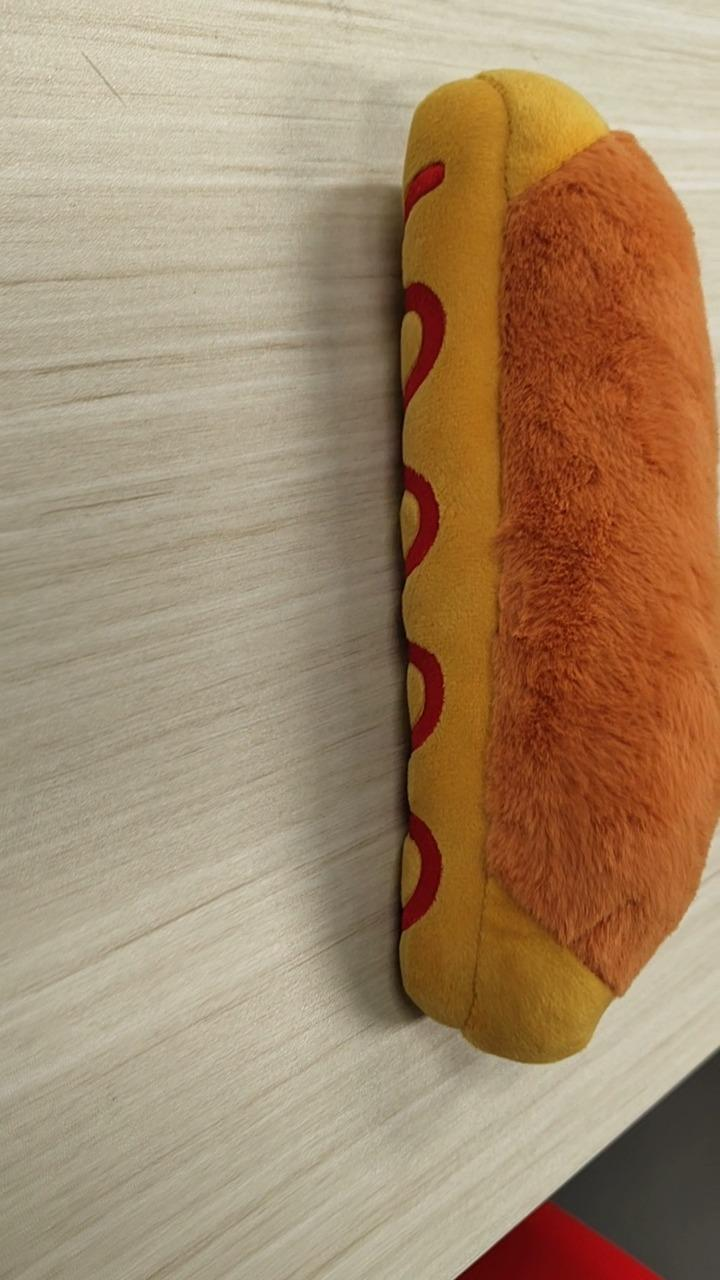hotdog: (393, 66, 718, 1064)
